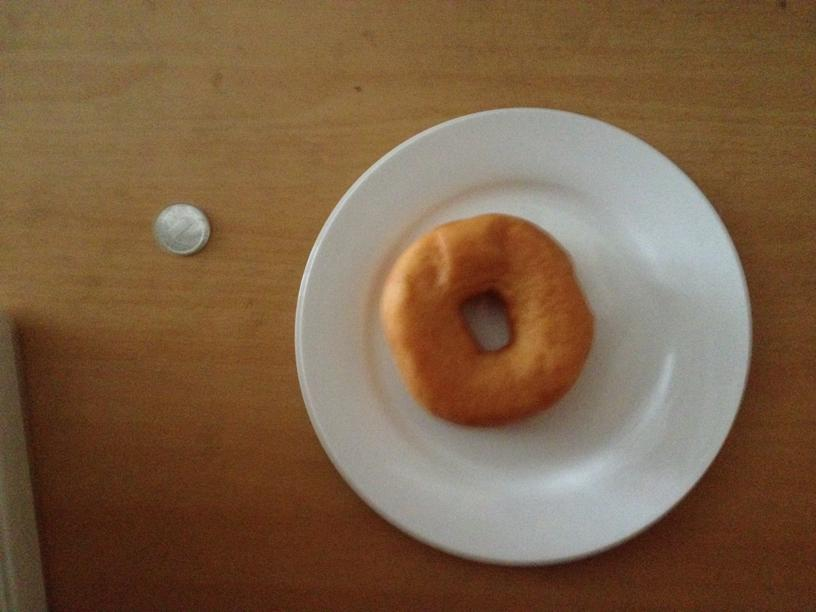coin: (153, 198, 199, 246)
doughnut: (379, 216, 592, 423)
